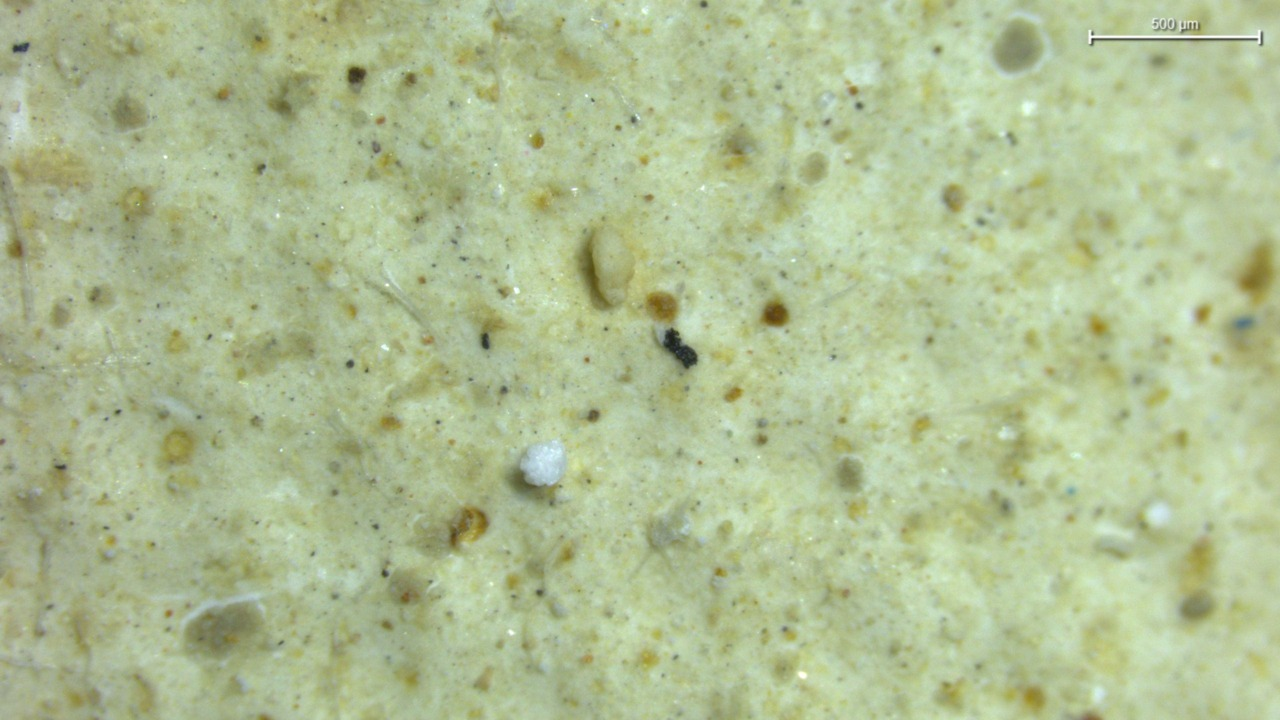microplastic_fragment: (590, 225, 634, 306), (519, 440, 567, 487)
